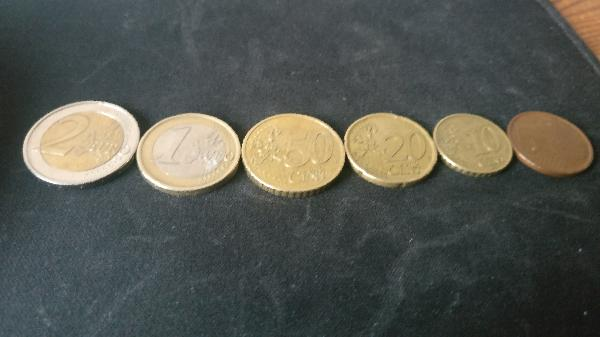Fifty Cent: (237, 112, 347, 198)
Five Cent: (507, 108, 596, 176)
One Euro: (136, 110, 242, 201)
Ten Cent: (431, 113, 514, 185)
Twenty Cent: (343, 112, 437, 192)
Two Euro: (22, 98, 145, 190)
